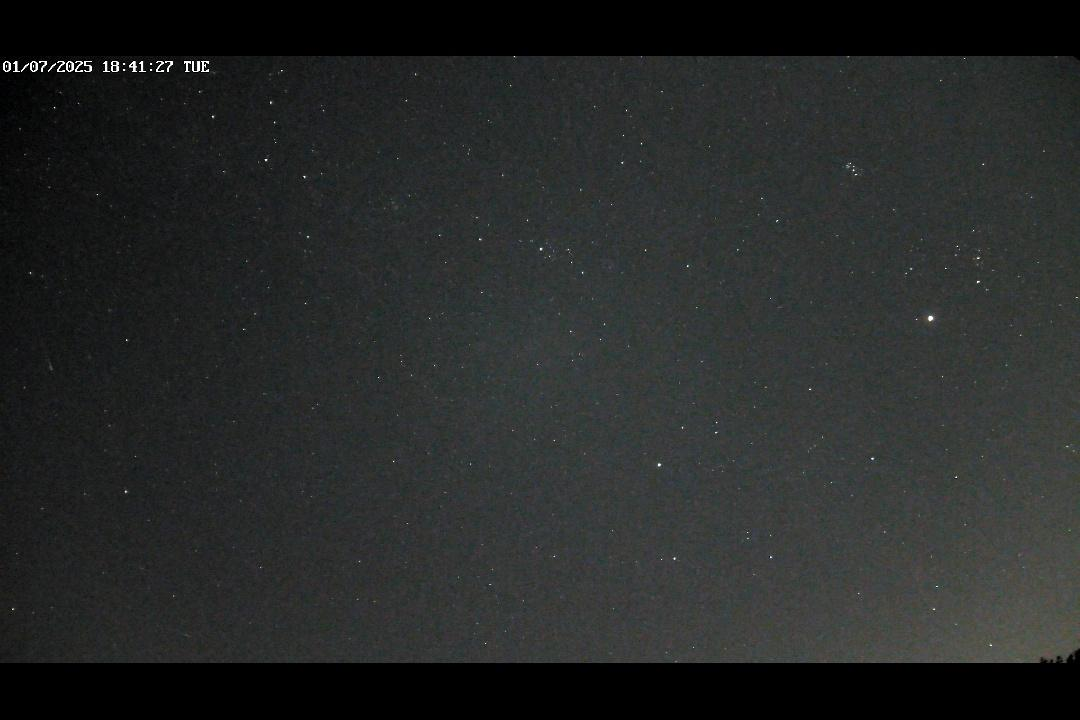Plane: (31, 333, 63, 374), (158, 618, 201, 645)
